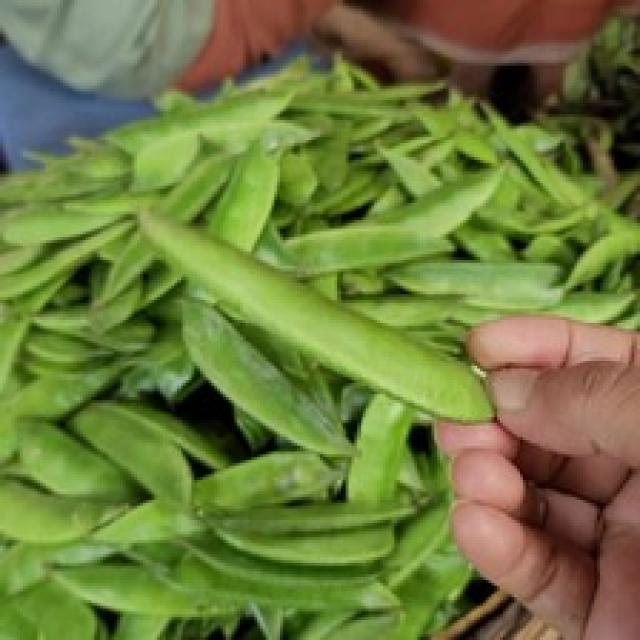Bean: (0, 40, 637, 637)
